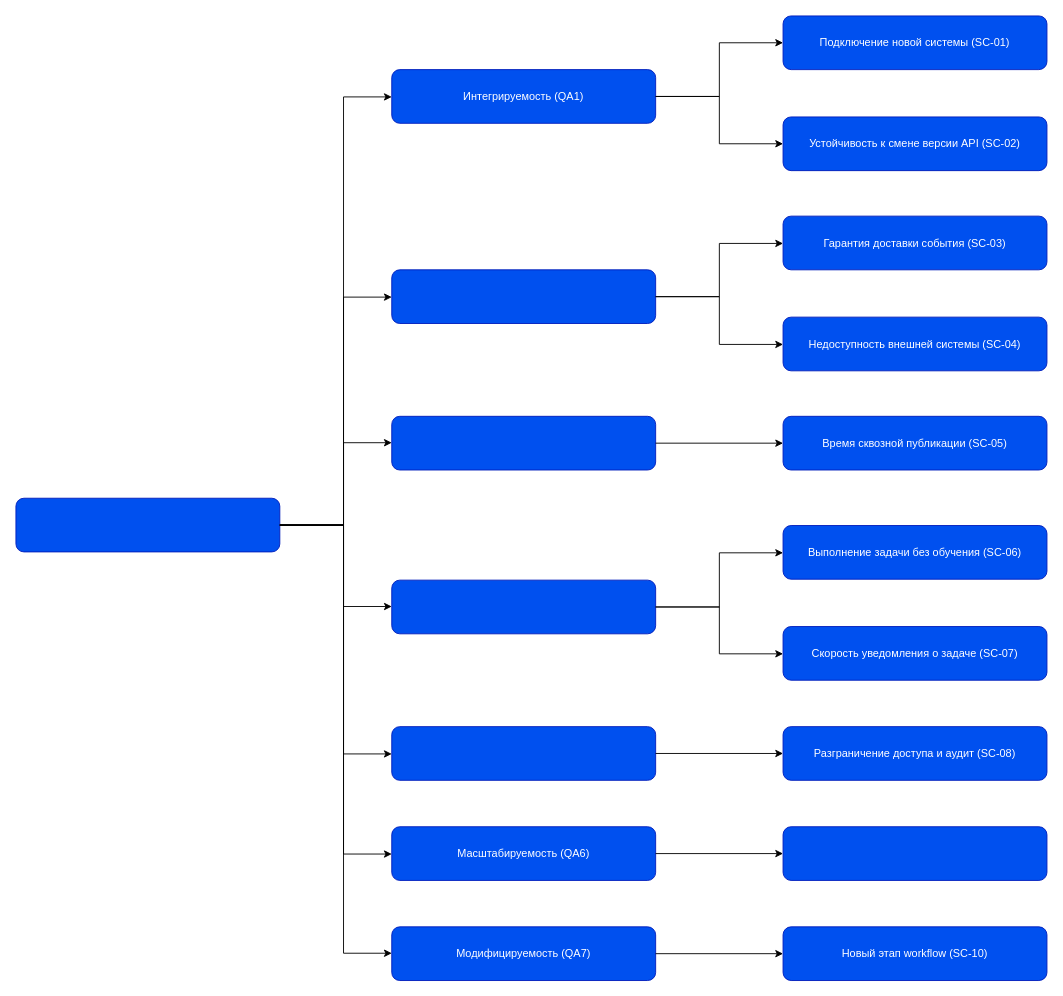
Some shapes in this 1063 by 996 pixel diagram are drawn without their labels. Here are the shapes that lost their labels. From the top down, the centre of each, then its label:
(x=523, y=296): Надежность (QA2)
(x=523, y=442): Производительность (QA3)
(x=147, y=524): Полезность СУДП (Utility Tree)
(x=523, y=606): Удобство использования (QA4)
(x=523, y=753): Безопасность (QA5)
(x=914, y=853): Рост сети и числа запусков (SC-09)
